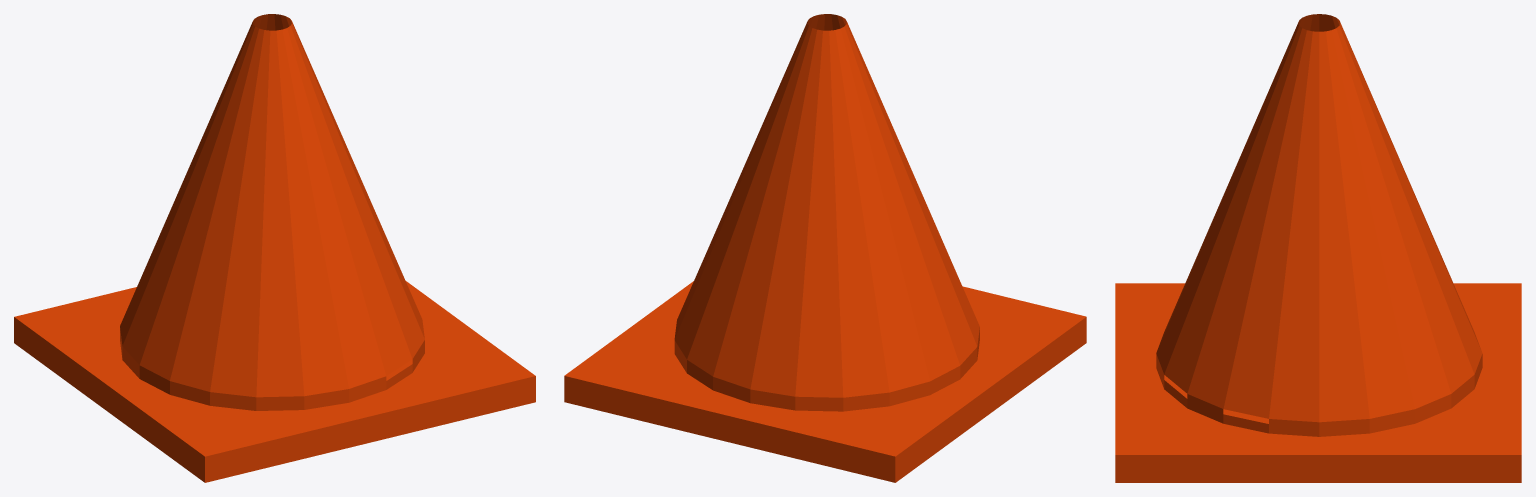
The model's file is Prop_Trafficcone_Mod_01.fbx.
3 renders of one model, left to right at view 1: azimuth 30°, elevation 25°; view 2: azimuth 150°, elevation 25°; view 3: azimuth 270°, elevation 25°, orthographic. The views are drawn at different scales.
Parts seen in each view (by area): view 1: Trafficcone; view 2: Trafficcone; view 3: Trafficcone.
Part boxes in pixels (left/top/right/bottom): Trafficcone: left=14, top=14, right=535, bottom=482; Trafficcone: left=564, top=14, right=1086, bottom=482; Trafficcone: left=1115, top=14, right=1521, bottom=482.
Bounding box in the file's own units: 0.9036 × 0.9152 × 0.9036.
